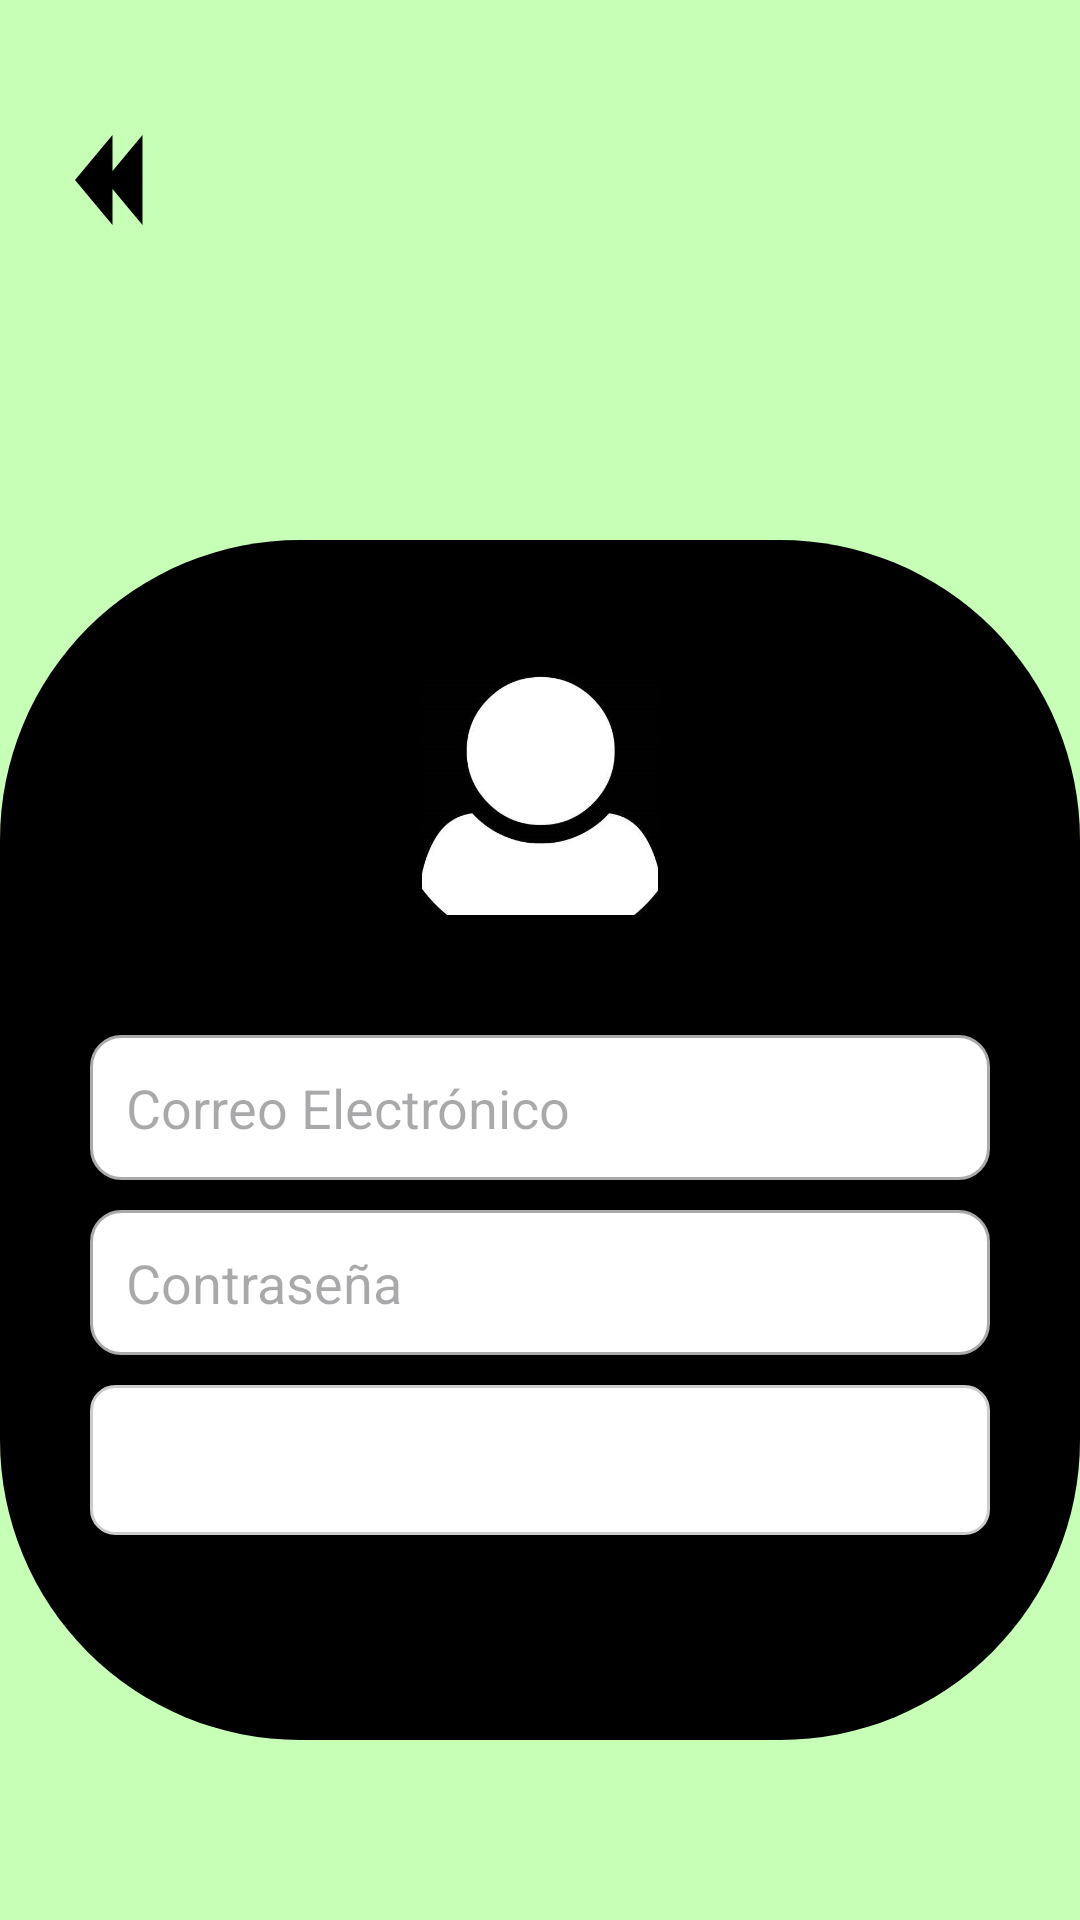

Screen size 1080×1920. Icon name, then its box in pixels as (x1, y1, x2, y2):
Regresar: (75, 135, 143, 225)
